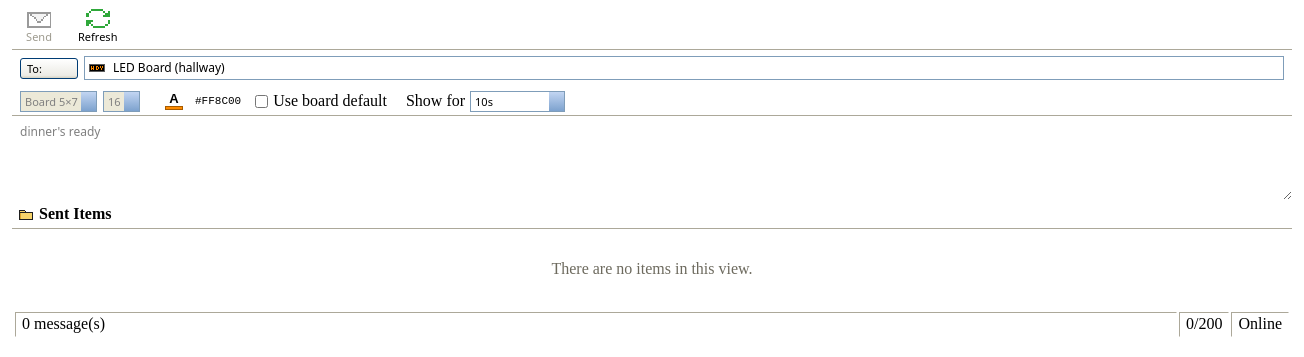
BoardClient › shows an error box when the POST fails with 401
expect the text "There are no items in this view." is shown: met, box [12,229,1292,309]
Type "yo" into the text box named "Message" at point(652, 158), box [12,116,1292,200]
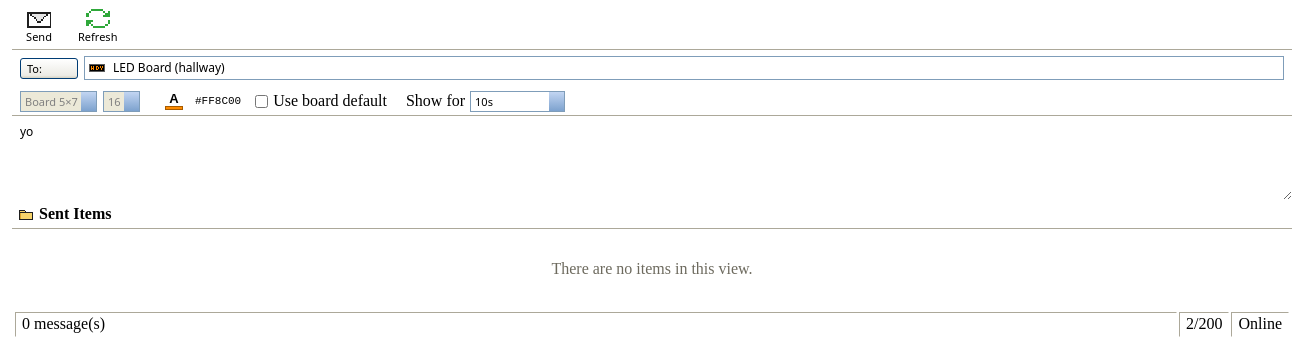
Click the button "Send" at point(39, 25), box [16,4,62,46]
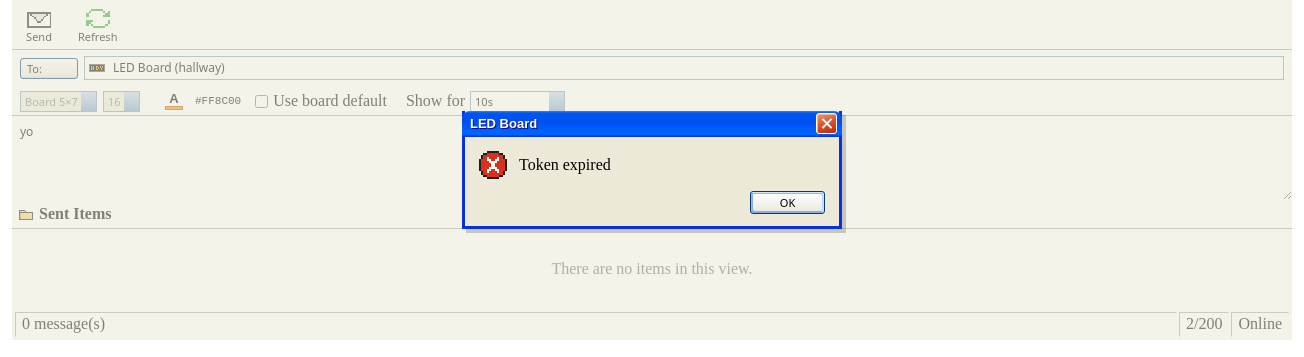
expect the message shows "Token expired": met, box [519,156,611,173]
Click the button "OK" at point(788, 202), box [750,191,825,214]
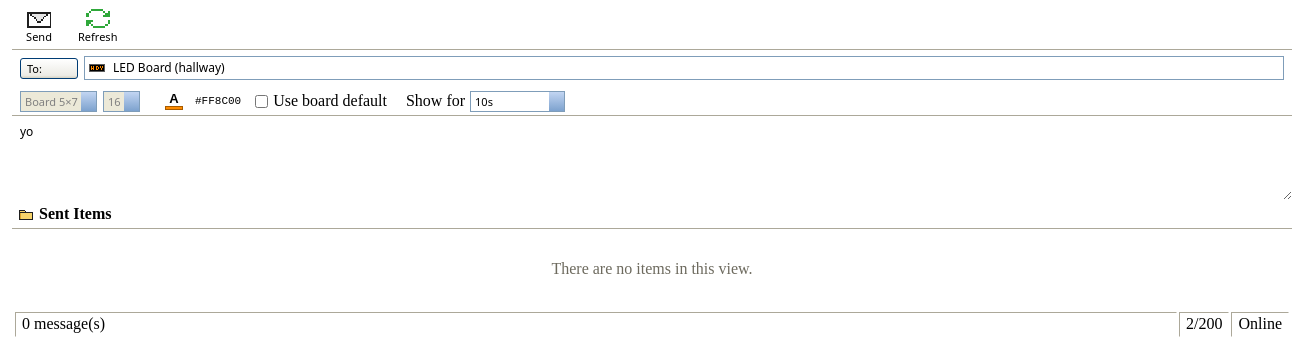
expect the message "LED Board Token expired OK" is gone: met
